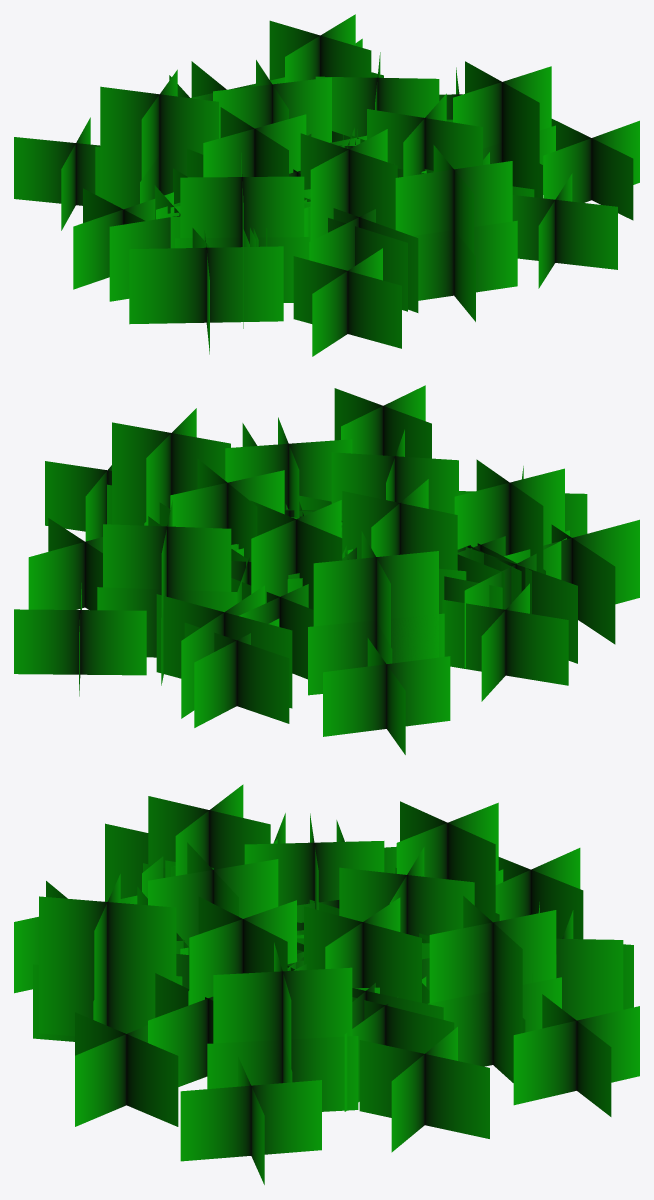
The model's file is Grass_3.fbx.
The picture shows the model from 3 angles, top to bottom: view 1: azimuth 30°, elevation 25°; view 2: azimuth 150°, elevation 25°; view 3: azimuth 270°, elevation 25°; orthographic projection. The views are drawn at different scales.
Parts seen in each view (by area): view 1: Grass_3; view 2: Grass_3; view 3: Grass_3.
Part boxes in pixels (box(x1,y1,x2,y2)): Grass_3: box(14, 14, 639, 356); Grass_3: box(14, 385, 639, 754); Grass_3: box(14, 784, 639, 1184).
Size of the model in its own units: 1127 by 255 by 1012.
